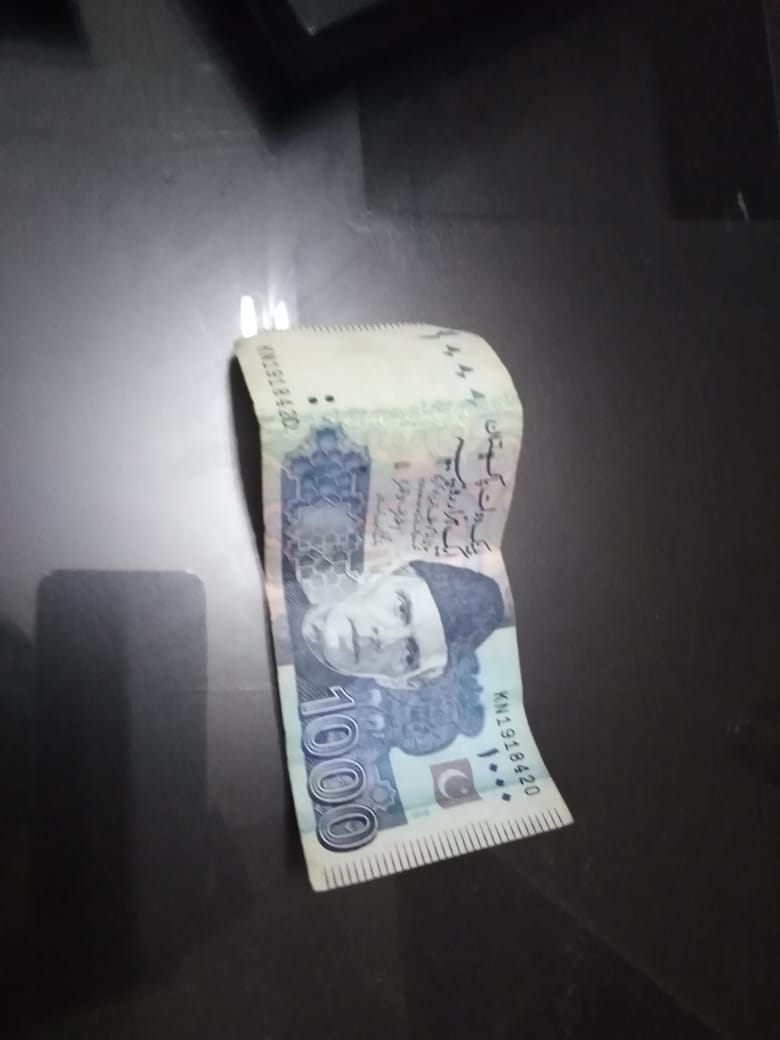1000 rupee: (220, 277, 594, 912)
